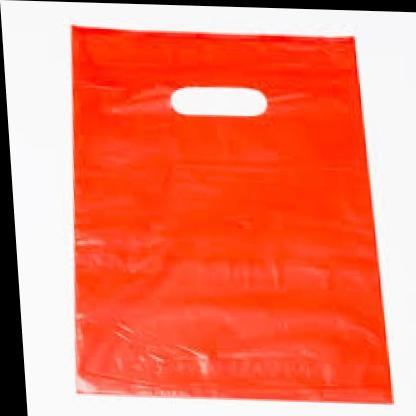trash: (72, 27, 391, 402)
